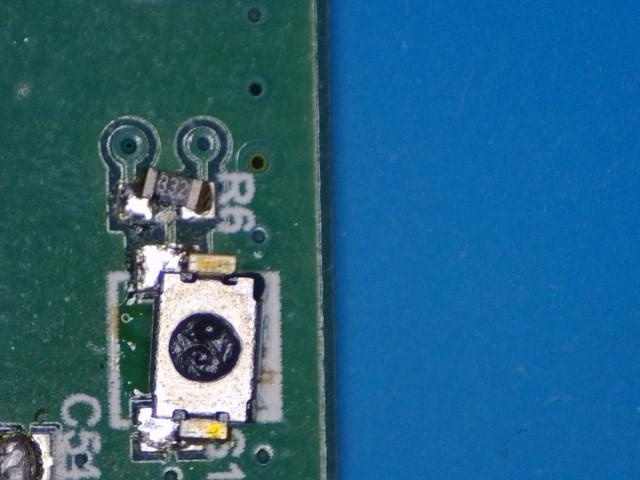pcb_defect: (136, 245, 267, 451), (118, 166, 215, 220)
